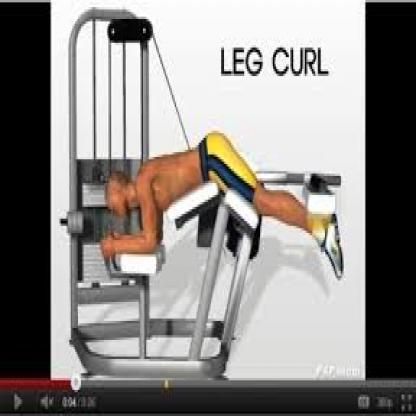reg curl machine: (53, 8, 346, 381)
